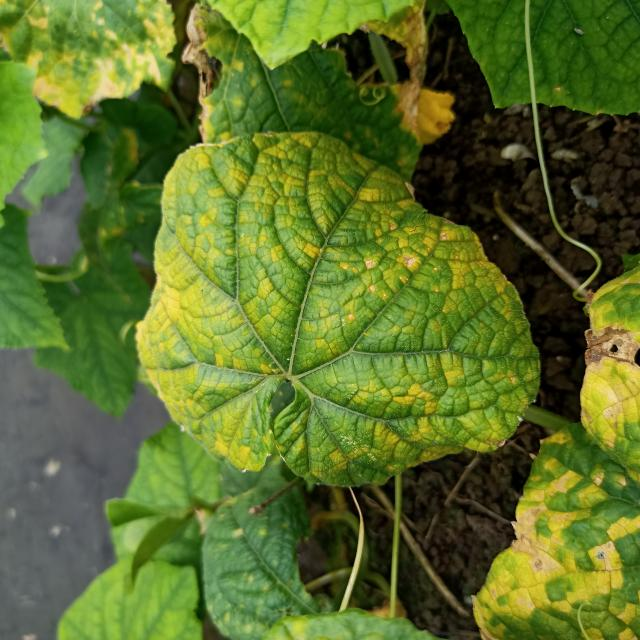disease_cucumber: (140, 133, 526, 480)
